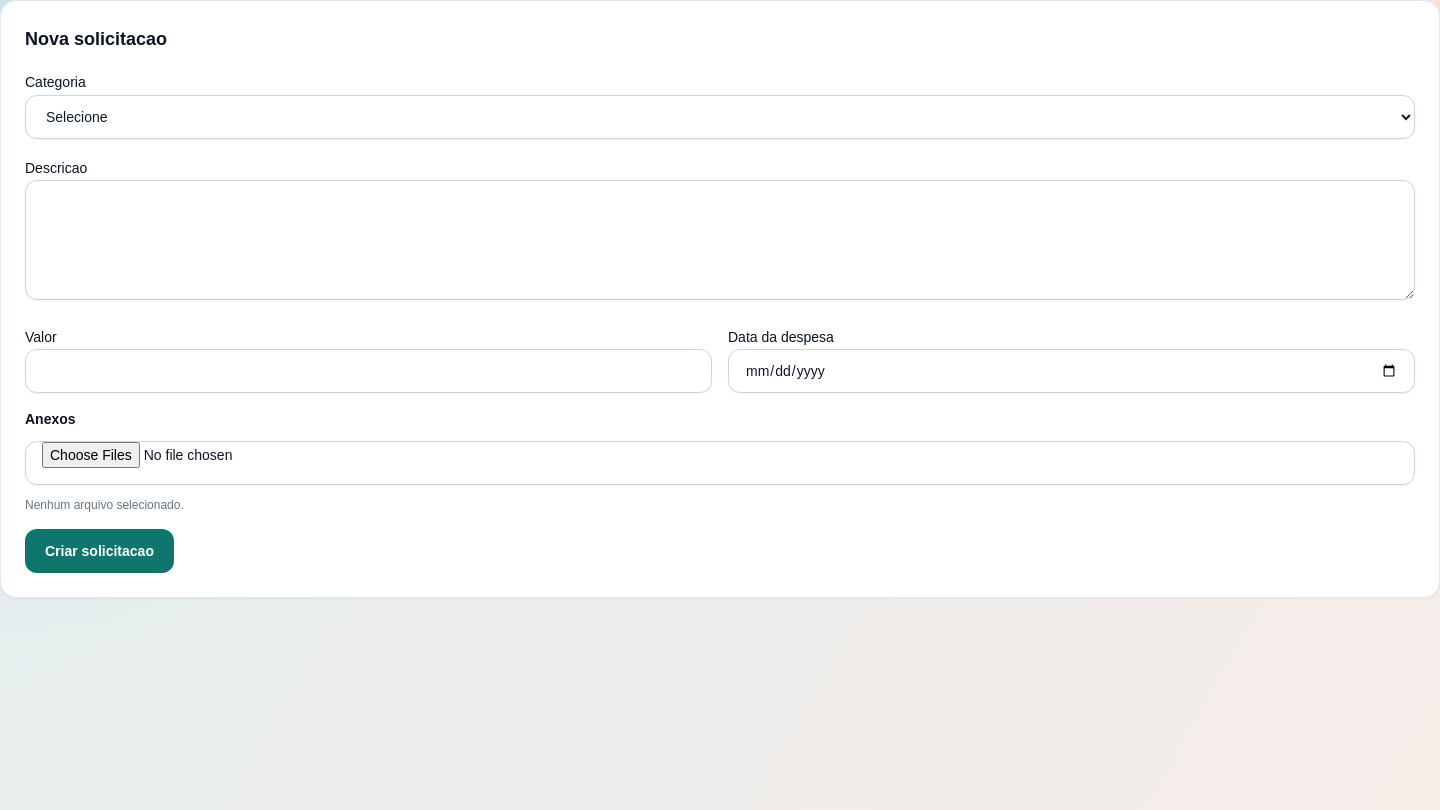
Test: Formulario de reembolso › valida campos obrigatorios
The image size is (1440, 810).
What coordinates should you click on to do the following:
click the button "Criar solicitacao"
I would click on:
 (99, 551)
Its box is left=25, top=529, right=174, bottom=573.
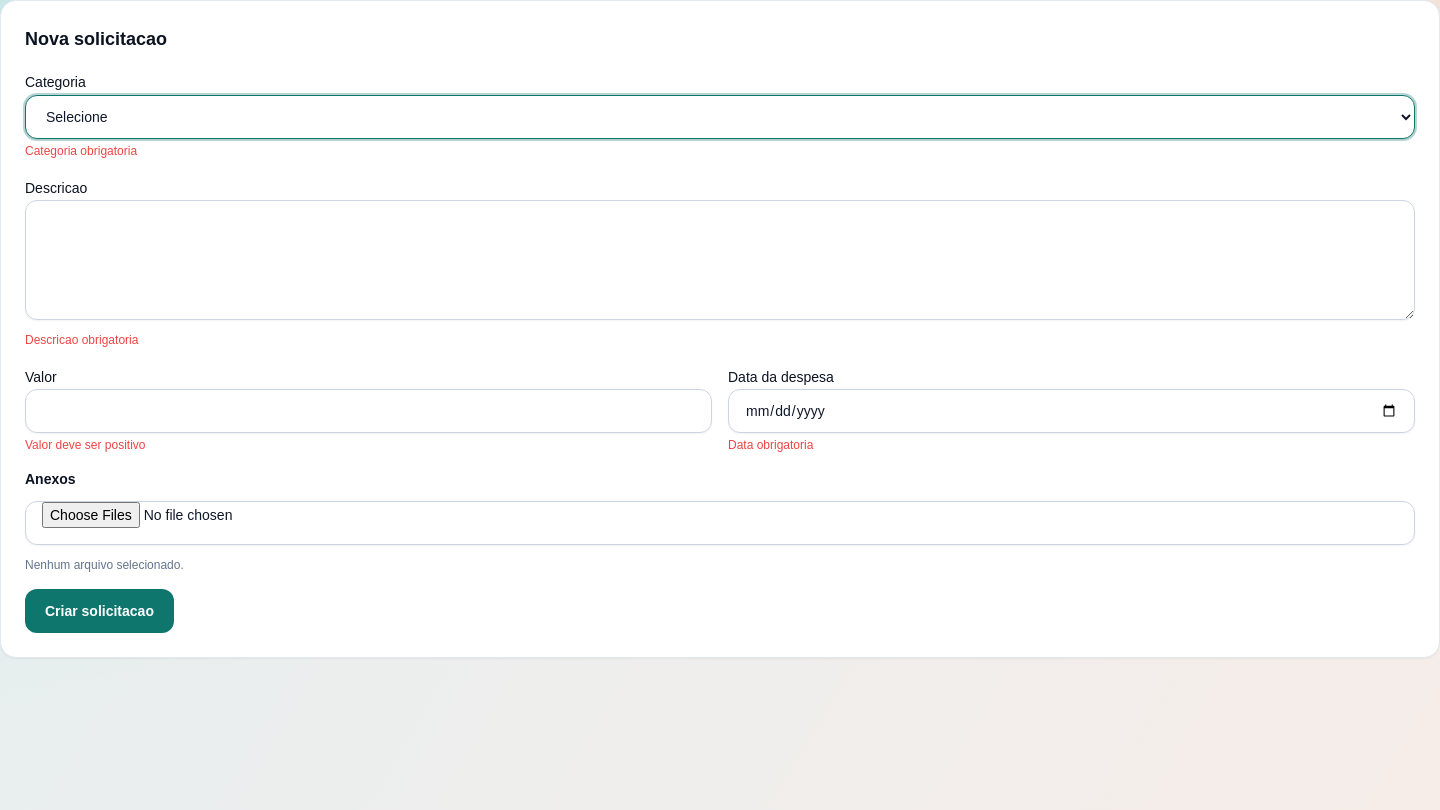
Expected: the text "Categoria obrigatoria" is shown, left=25, top=144, right=137, bottom=158
Expected: the text "Descricao obrigatoria" is shown, left=25, top=333, right=138, bottom=347
